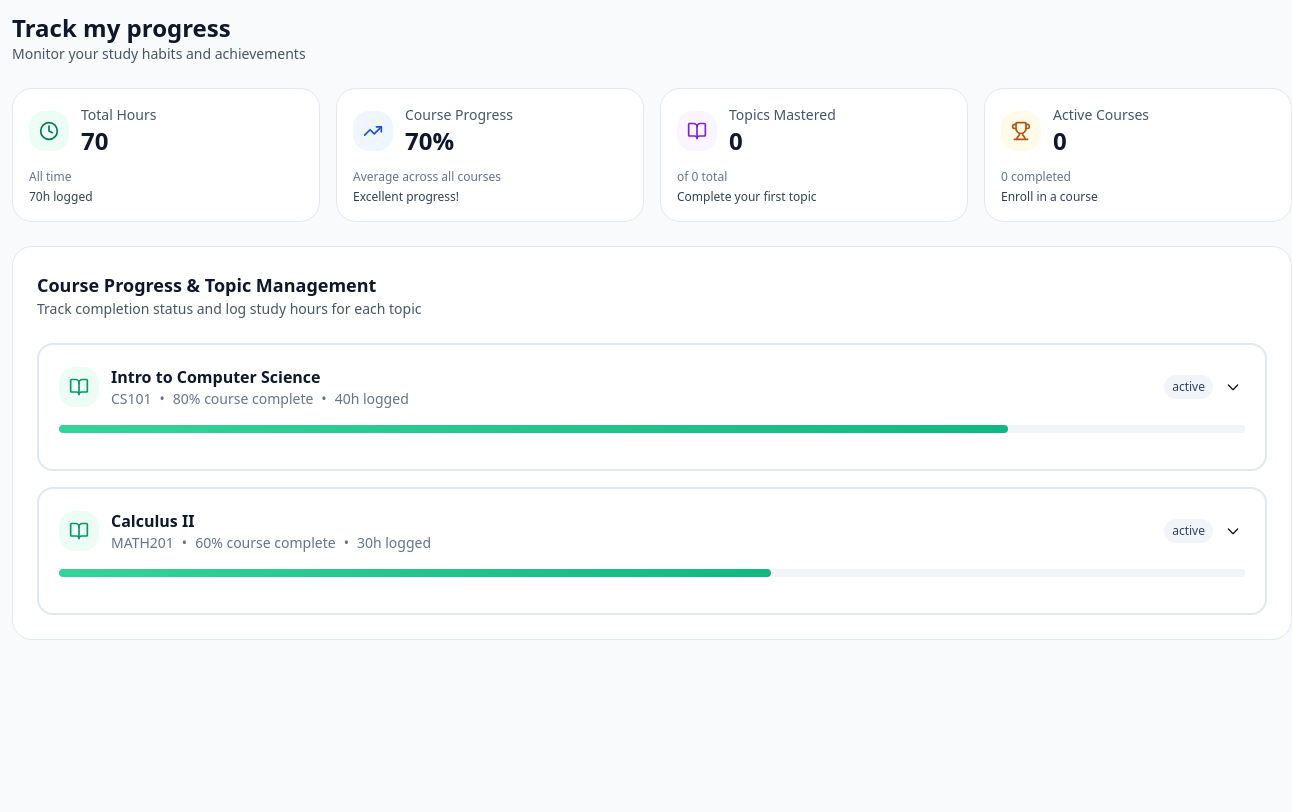
can expand and collapse course cards
This screenshot has width=1292, height=812.
expect the link "Intro to Computer Science" is shown: met, box [111,366,320,388]
Click the button without text in the row of "40h logged" at point(1233, 387), box [1221,375,1245,399]
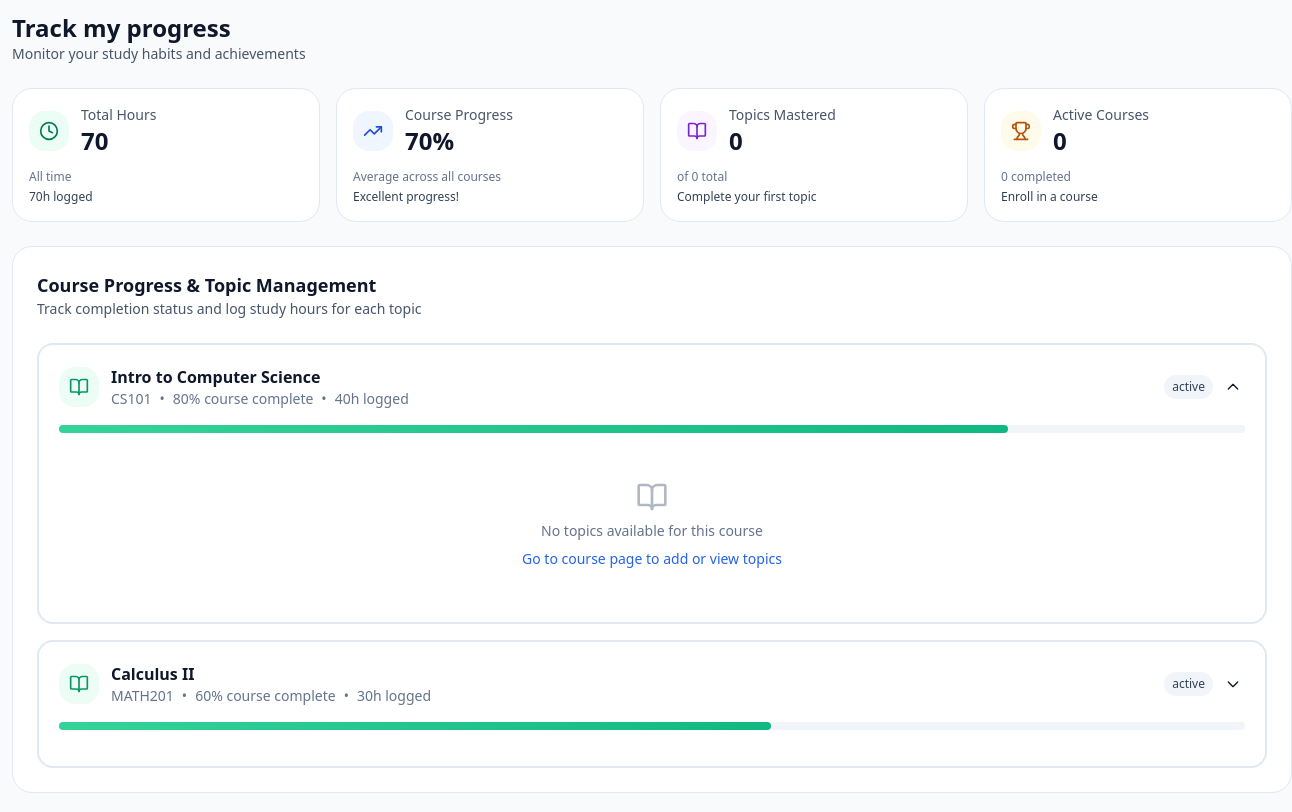
expect the text "No topics available for this course" is shown: met, box [541,521,763,540]
